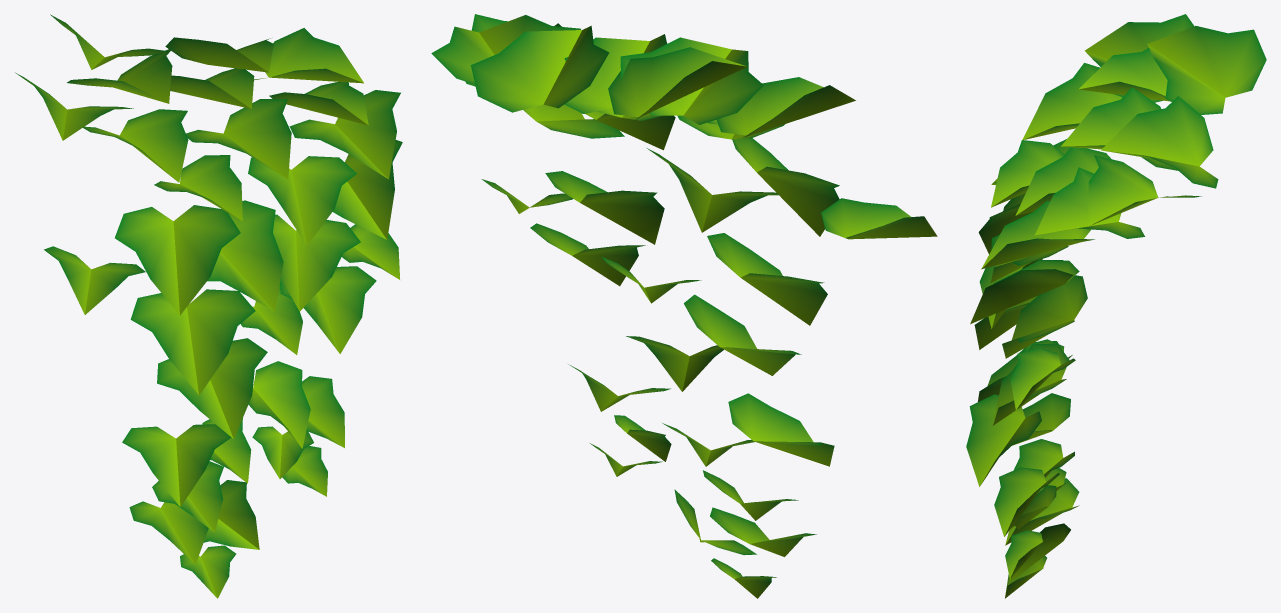
Rendered from ivy1.fbx.
3 views of the same model, side by side, from view 1: azimuth 30°, elevation 25°; view 2: azimuth 150°, elevation 25°; view 3: azimuth 270°, elevation 25° (orthographic). The views are drawn at different scales.
Visible parts, largest first — view 1: Plane.043, Plane.046, Plane.044, Plane.074, Plane.048, Plane.052, Plane.058, Plane.090, Plane.087, Plane.051, Plane.096, Plane.079 (+20 smaller); view 2: Plane.097, Plane.098, Plane.095, Plane.094, Plane.046, Plane.043, Plane.058, Plane.052, Plane.050, Plane.096, Plane.048, Plane.093 (+12 smaller); view 3: Plane.098, Plane.097, Plane.077, Plane.096, Plane.058, Plane.070, Plane.079, Plane.092, Plane.090, Plane.095, Plane.093, Plane.087 (+17 smaller).
Part boxes in pixels (x1,y1,x2,y2): Plane.043: (115, 205, 240, 315); Plane.046: (130, 289, 255, 395); Plane.044: (207, 200, 283, 311); Plane.074: (248, 156, 356, 245); Plane.048: (157, 338, 267, 438); Plane.052: (122, 424, 231, 506); Plane.058: (273, 214, 360, 311); Plane.090: (289, 90, 400, 179); Plane.087: (186, 99, 291, 179); Plane.051: (280, 266, 376, 353); Plane.096: (254, 28, 363, 83); Plane.079: (332, 140, 402, 239); Plane.097: (471, 25, 609, 112); Plane.098: (608, 47, 746, 122); Plane.095: (620, 37, 763, 124); Plane.094: (716, 77, 855, 137); Plane.046: (707, 233, 827, 325); Plane.043: (732, 138, 839, 236); Plane.058: (545, 171, 664, 244); Plane.052: (728, 393, 834, 466); Plane.050: (821, 198, 937, 239); Plane.096: (431, 15, 580, 84); Plane.048: (684, 294, 801, 375); Plane.093: (564, 34, 667, 113); Plane.098: (1147, 26, 1266, 114); Plane.097: (1101, 96, 1218, 188); Plane.077: (966, 394, 1041, 486); Plane.096: (1088, 155, 1201, 226); Plane.058: (1002, 275, 1087, 358); Plane.070: (1022, 63, 1122, 140); Plane.079: (970, 260, 1079, 324); Plane.092: (1034, 167, 1144, 238); Plane.090: (981, 200, 1094, 269); Plane.095: (1078, 48, 1170, 101); Plane.093: (1061, 87, 1178, 170); Plane.087: (1015, 147, 1111, 215).
Bounding box in the file's own units: 1.66 × 2.32 × 1.16.
